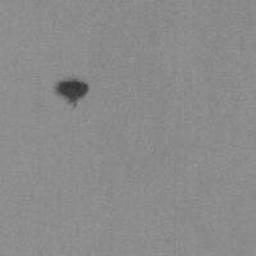Inclusion: (55, 78, 91, 110)
